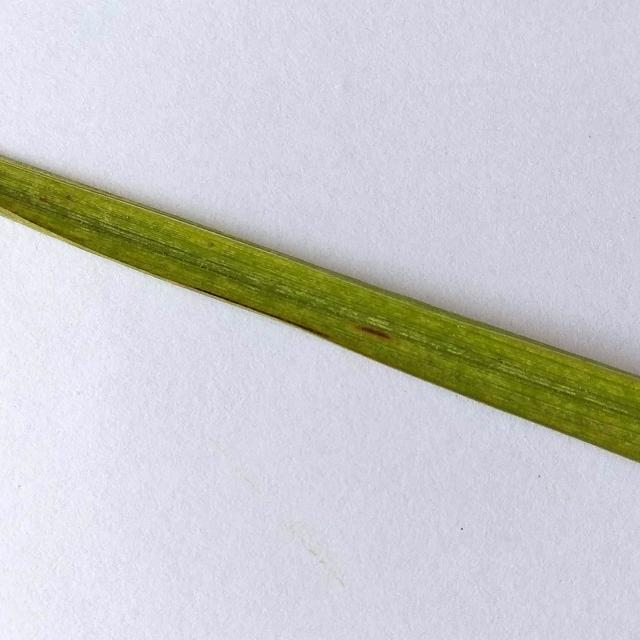brownspots: (348, 316, 400, 344)
